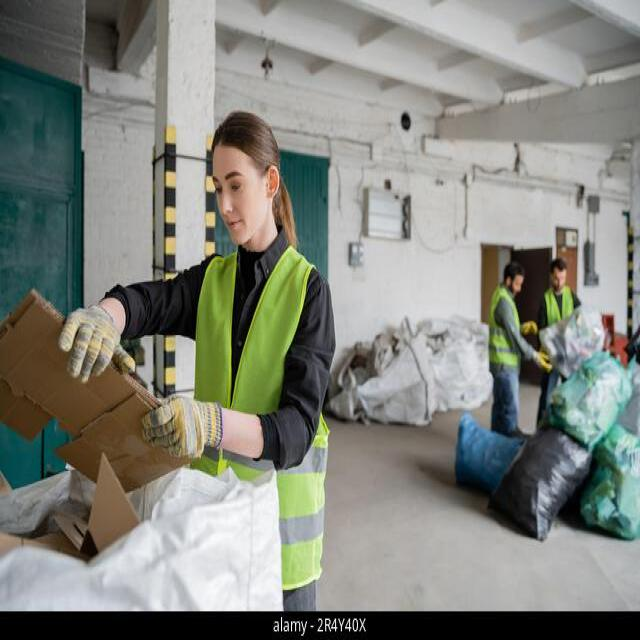cardboard: (16, 309, 160, 477), (21, 487, 148, 540)
trash: (453, 355, 629, 528), (160, 478, 291, 592)
